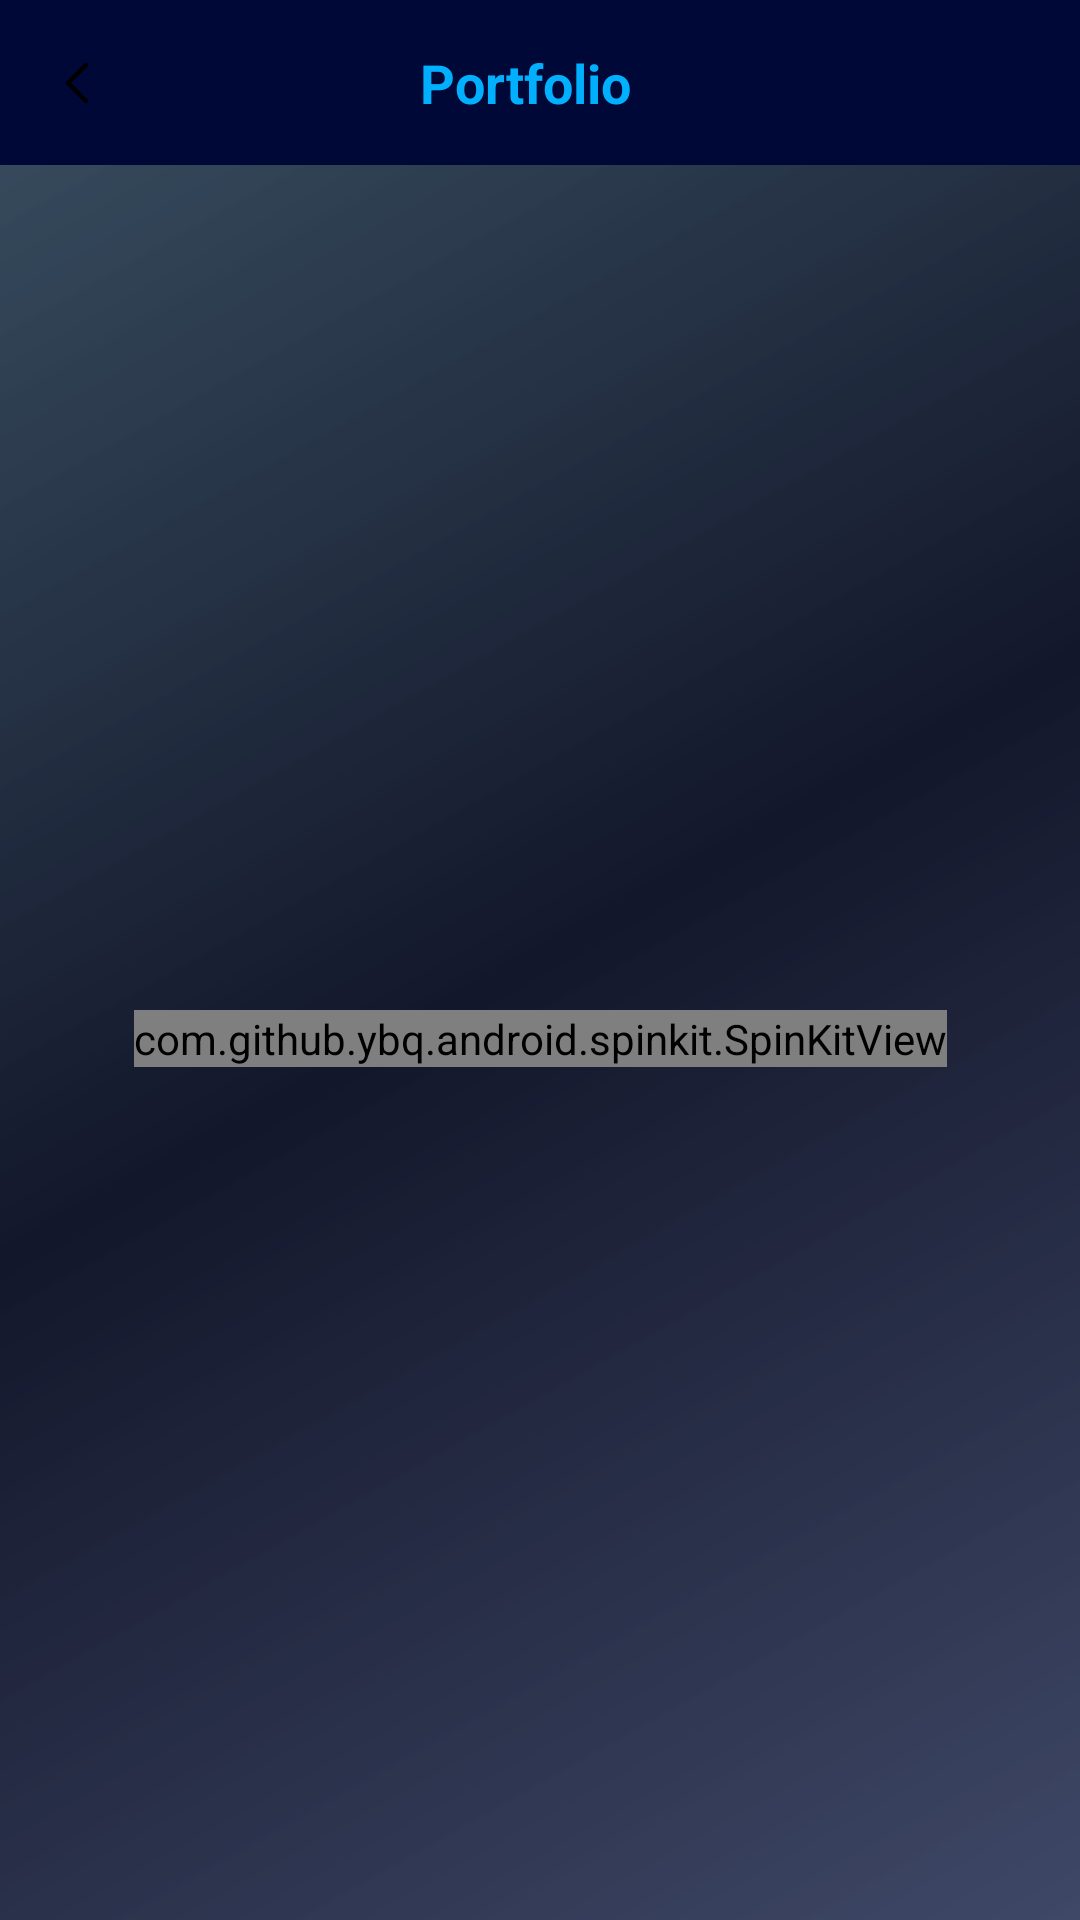

Named icons in this screenshot (1080*1920) and their centers, (x,y):
back: (77,83)
